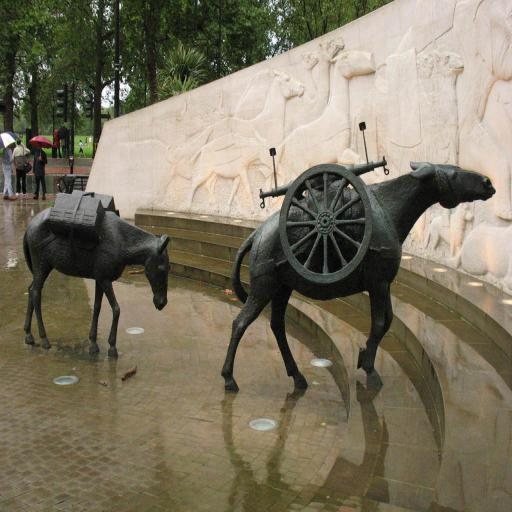horse: (222, 158, 498, 392), (23, 204, 173, 360), (184, 68, 306, 216)
